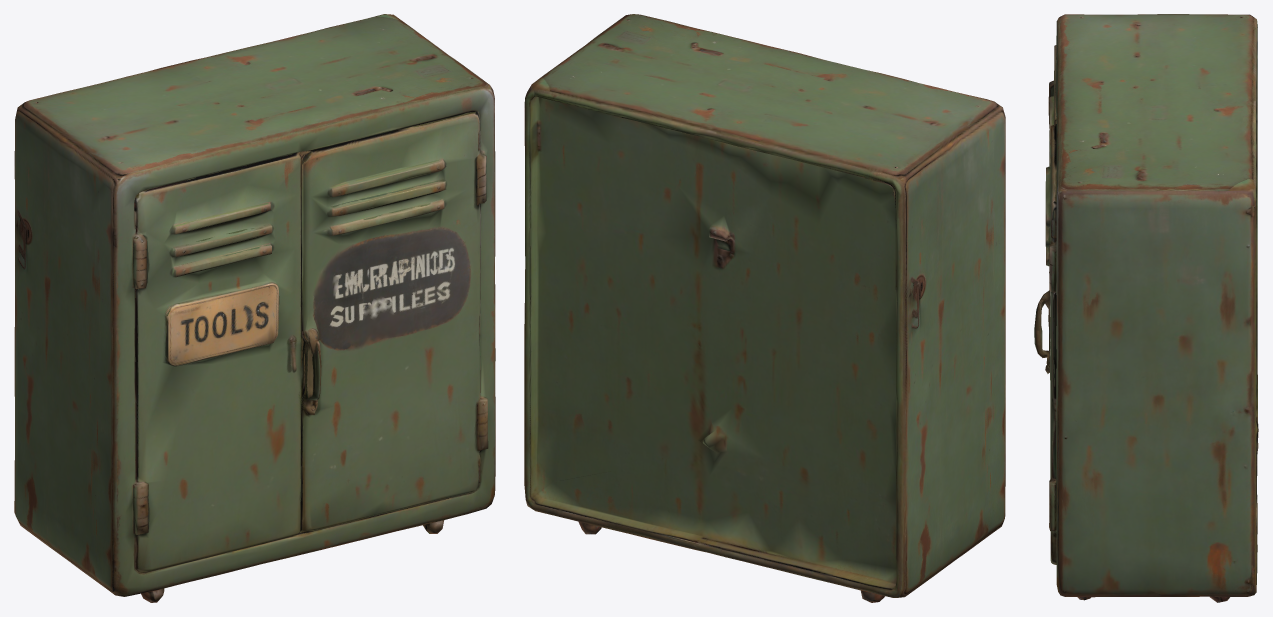
Rendered from Storage_Cabinet_0404141350_texture.glb.
3 renders of one model, left to right at view 1: azimuth 30°, elevation 25°; view 2: azimuth 150°, elevation 25°; view 3: azimuth 270°, elevation 25°, orthographic. The views are drawn at different scales.
Size of the model in its own units: 1.79 by 2 by 0.9349.
Materials: 1 (1 with a texture image).
